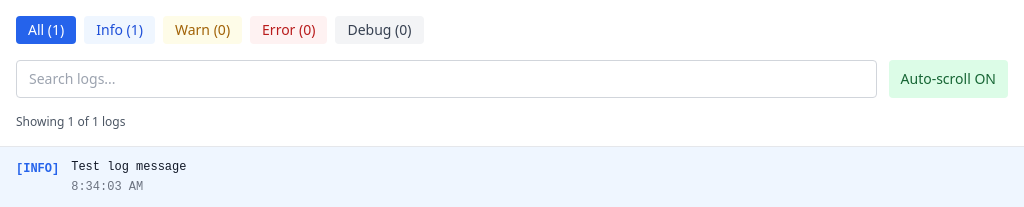
it: RealTimeLogs › should toggle auto-scroll
Click the button "Auto-scroll ON". click: (948, 79)
box: 888,60 -> 1008,98
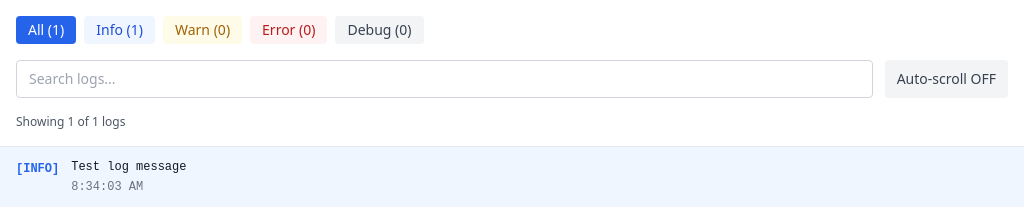
Check: the button "Auto-scroll OFF" is shown, box 885,60 -> 1008,98
